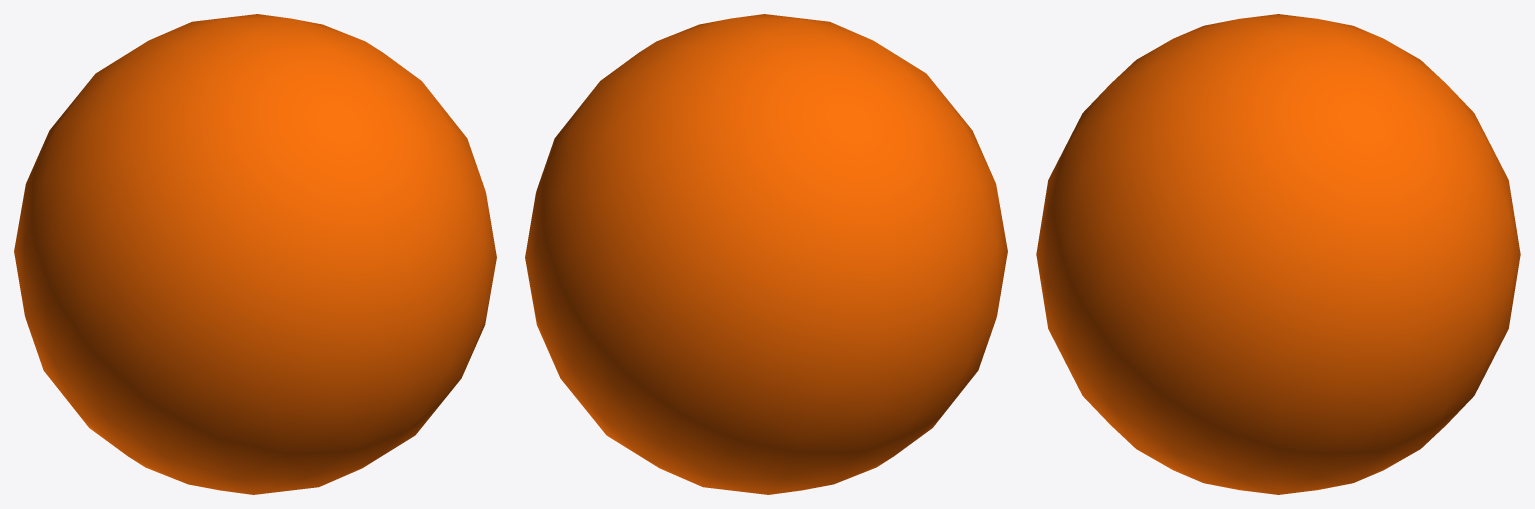
Rendered from sol.gltf.
The picture shows the model from 3 angles, left to right: view 1: azimuth 30°, elevation 25°; view 2: azimuth 150°, elevation 25°; view 3: azimuth 270°, elevation 25°; orthographic projection.
Parts seen in each view (by area): view 1: Polyhedron; view 2: Polyhedron; view 3: Polyhedron.
Boxes of the visible parts, x1,y1,x2,y2 form: Polyhedron: [14, 14, 496, 494]; Polyhedron: [525, 14, 1007, 494]; Polyhedron: [1036, 14, 1520, 494].
Size of the model in its own units: 1.5 by 1.5 by 1.5.
